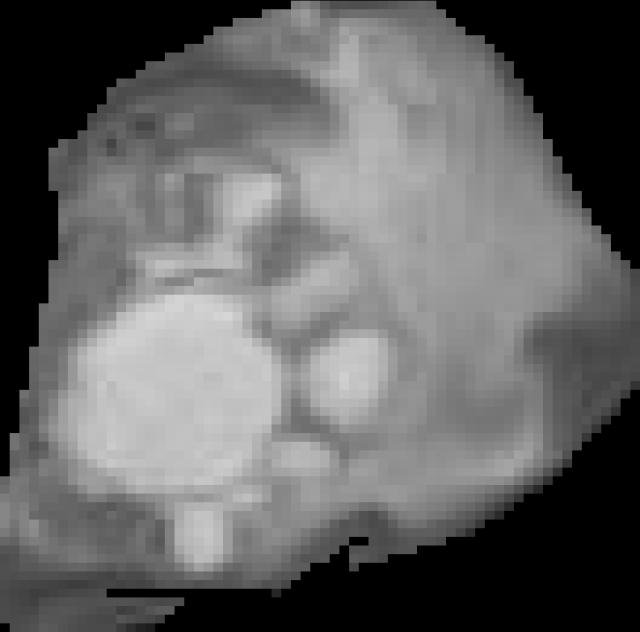tumor_less_chance: (0, 1, 640, 632)
